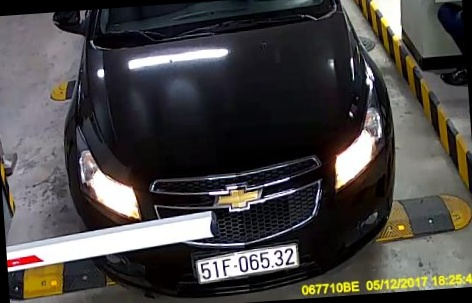plate: (190, 239, 300, 287)
